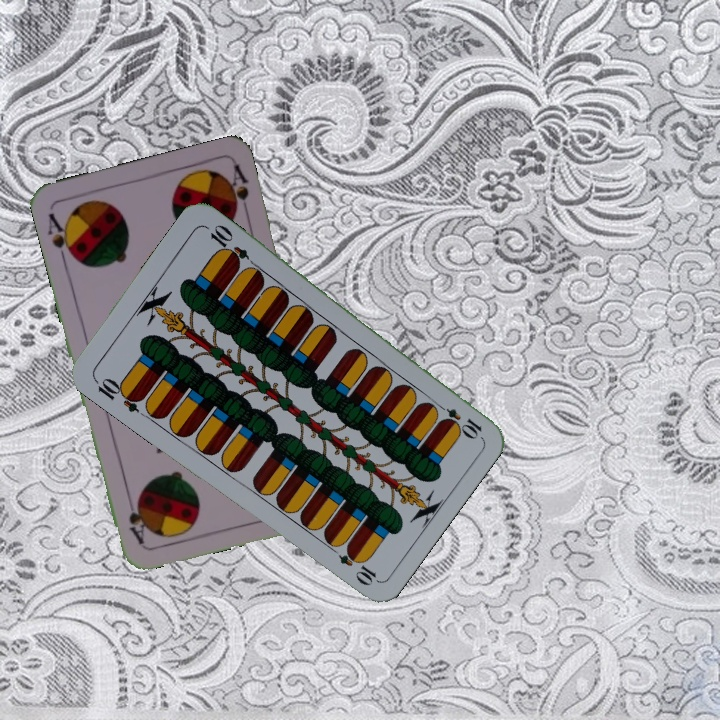E10: (90, 373, 146, 415), (430, 398, 485, 440)
SA: (44, 209, 79, 265)
